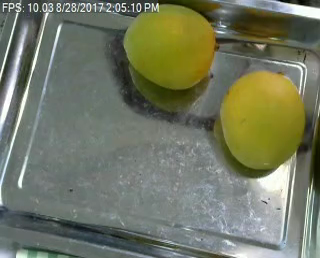Mango: (215, 68, 309, 176), (117, 0, 222, 91)
